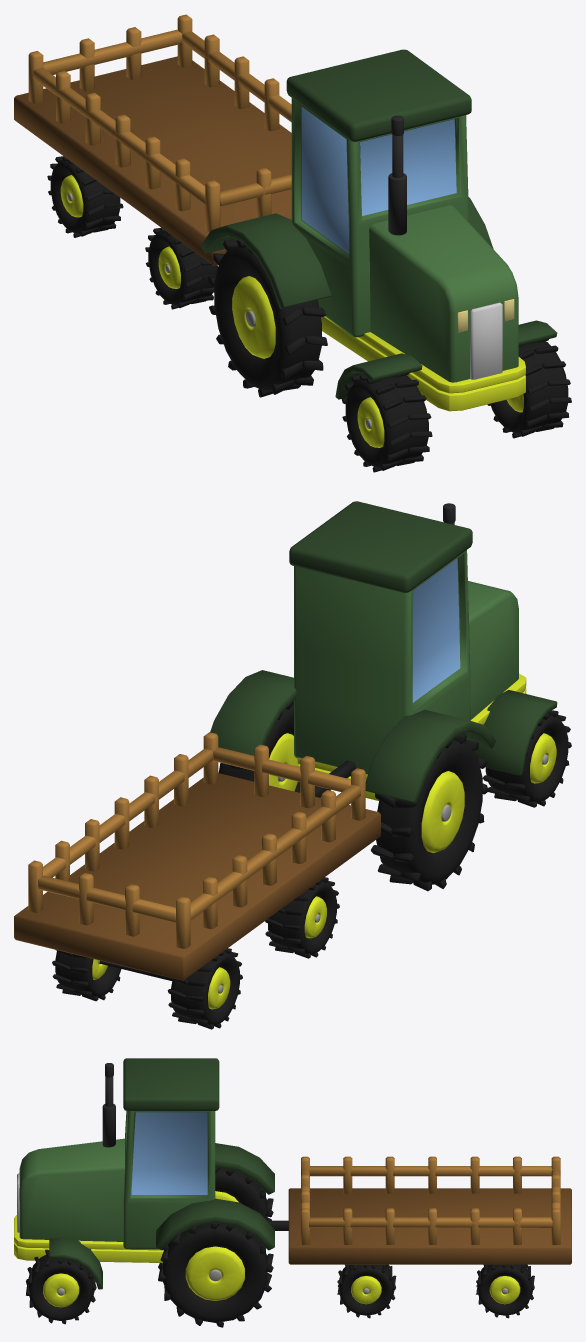
Rendered from tractorbevel2 (3).fbx.
3 views of the same model, one above another, from view 1: azimuth 30°, elevation 25°; view 2: azimuth 150°, elevation 25°; view 3: azimuth 270°, elevation 25° (orthographic). The views are drawn at different scales.
Visible parts, largest first — view 1: tractor.001, tractor.008, tractor.004, tractor.005, tractor.002, tractor.006, tractor.007; view 2: tractor.008, tractor.001, tractor.004, tractor.005, tractor.003; view 3: tractor.008, tractor.001, tractor.003, tractor.002, tractor.004, tractor.006, tractor.007.
Part boxes in pixels (x1,y1,x2,y2): tractor.001: (286,49,525,411); tractor.008: (14,14,291,309); tractor.004: (200,213,331,397); tractor.005: (335,353,432,472); tractor.002: (487,320,571,438); tractor.006: (388,173,406,235); tractor.007: (391,115,403,177); tractor.008: (14,732,380,1029); tractor.001: (289,501,526,800); tractor.004: (365,709,496,891); tractor.005: (473,690,571,807); tractor.003: (210,670,300,792); tractor.008: (267,1156,571,1318); tractor.001: (14,1058,219,1262); tractor.003: (156,1198,274,1327); tractor.002: (26,1237,102,1324); tractor.004: (215,1143,274,1220); tractor.006: (102,1104,115,1147); tractor.007: (105,1063,113,1107).
Bounding box in the file's own units: 0.9665 × 1.35 × 3.11.
